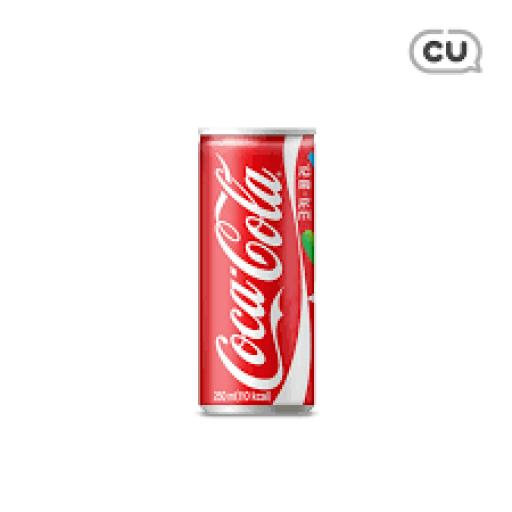Coca: (187, 116, 323, 419)
